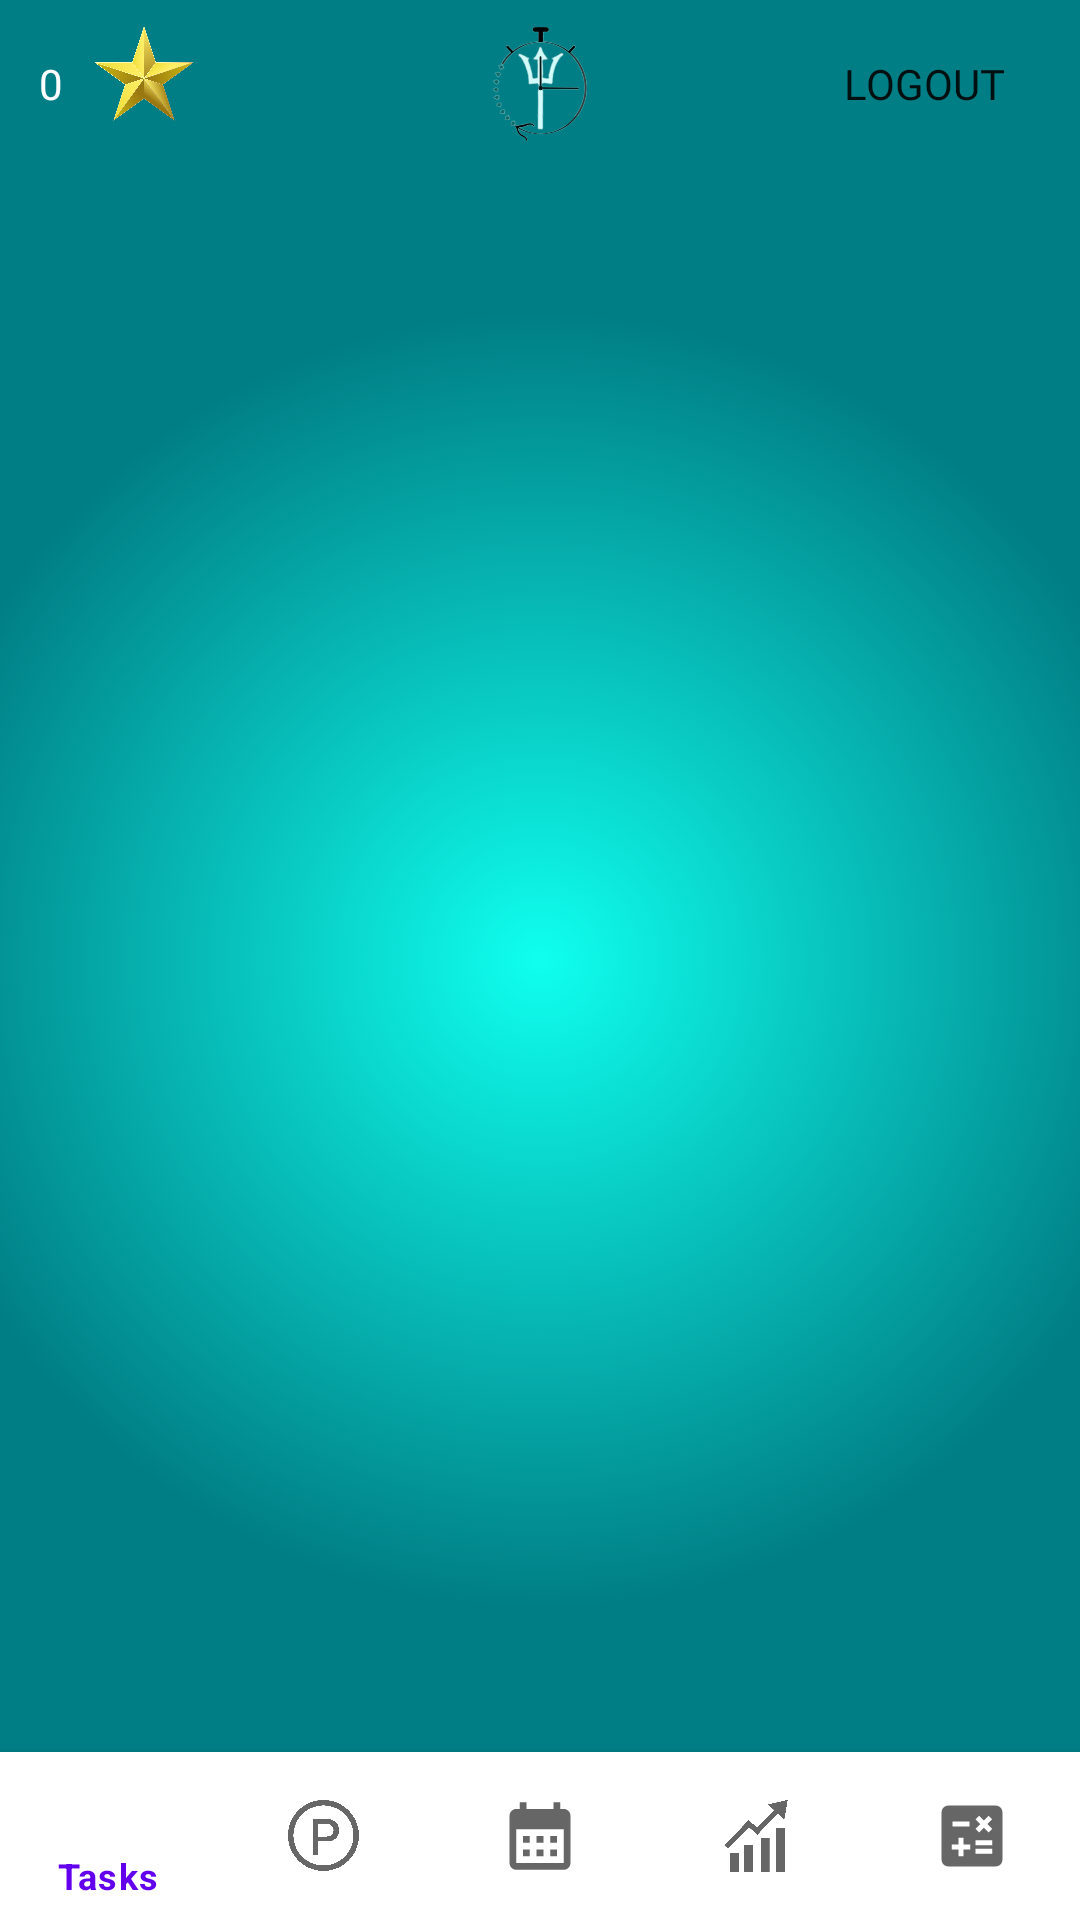

Screen size 1080px x 1920px. Icon name, then its center in pixels as [x,y]:
gold star: [144,74]
